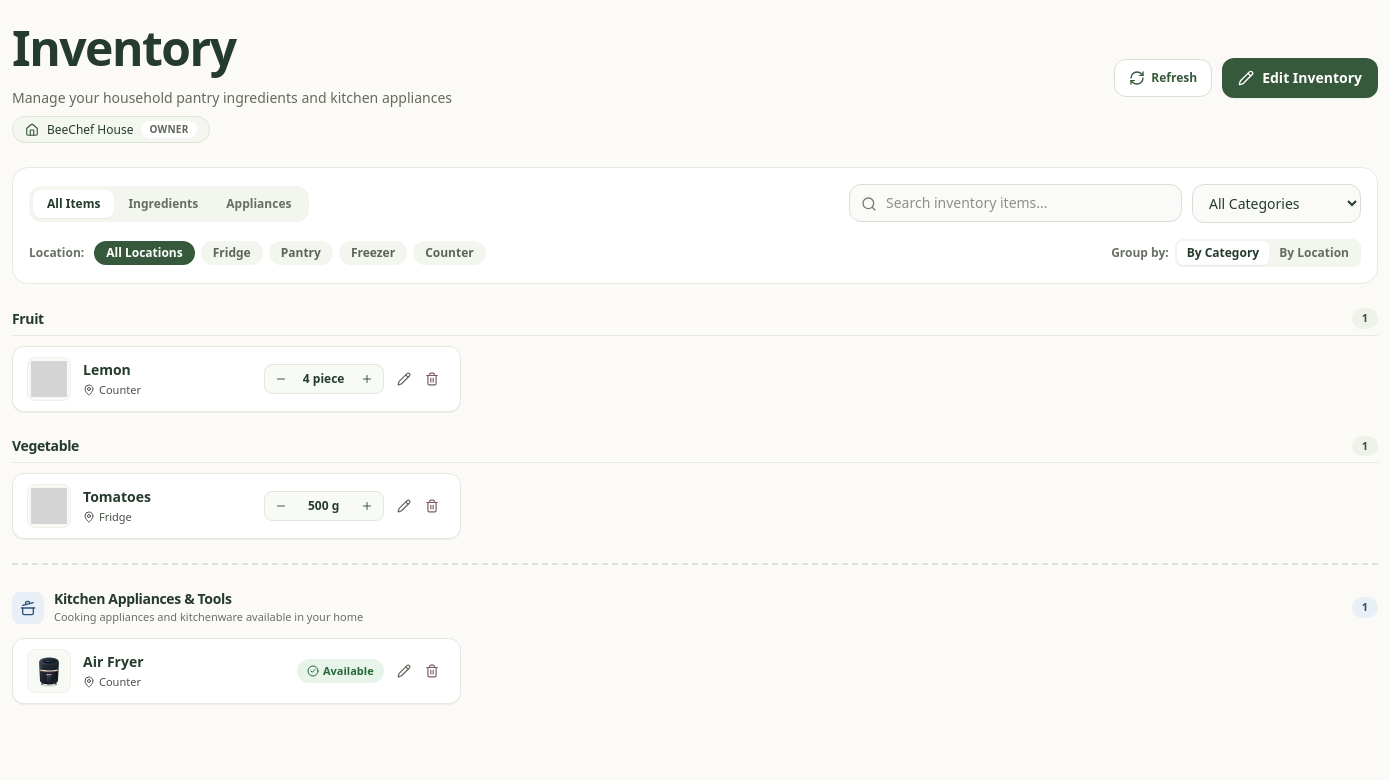
Test: InventoryPage UI and API integration › groups ingredients by category or location and keeps appliances in a bottom section
Expected: the heading "Tomatoes" is shown, [83,487,151,506]
Expected: the heading "Lemon" is shown, [83,360,131,379]
# Switch to By Location grouping
Click the button "By Location": (1314, 253) [1269,241,1359,265]
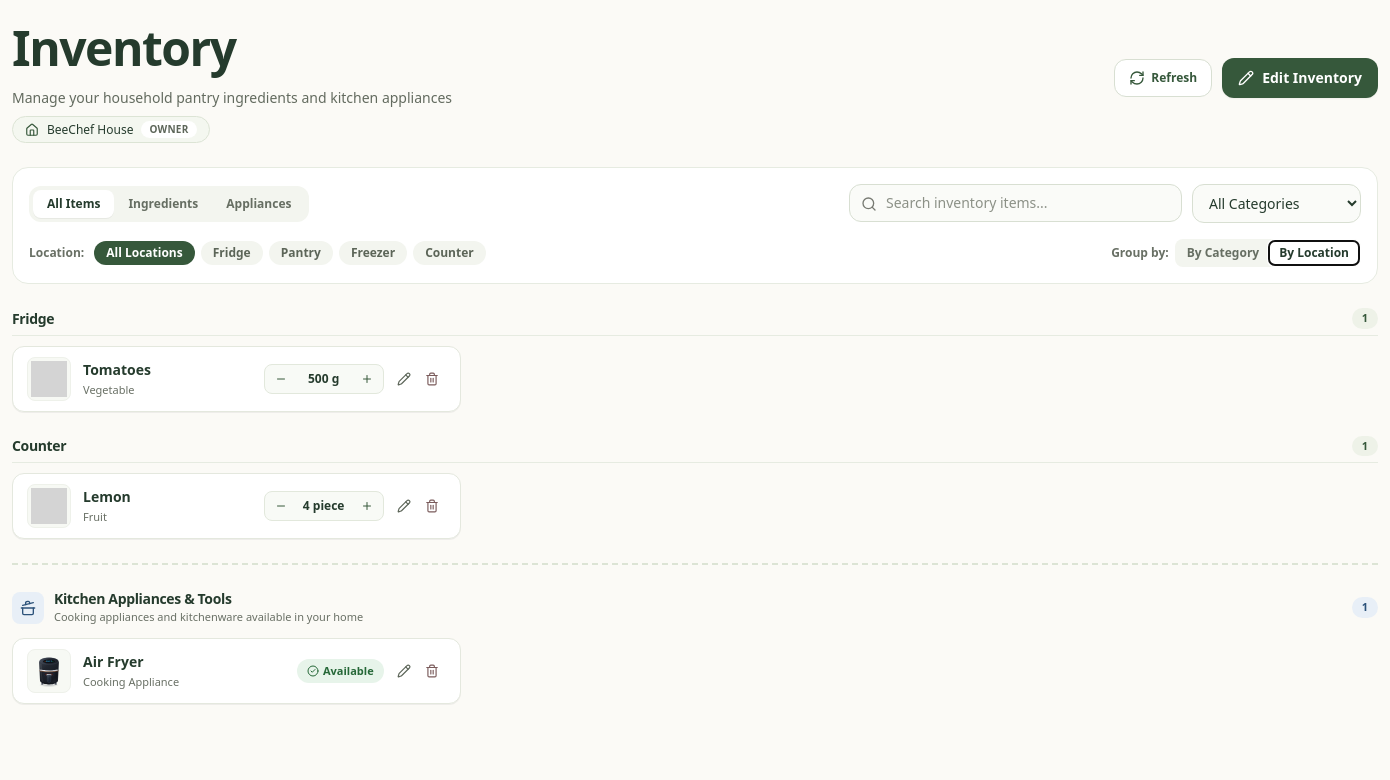
Expected: the heading "Fridge" is shown, [12,309,54,329]
Expected: the heading "Tomatoes" is shown, [83,360,151,379]
Expected: the heading "Counter" is shown, [12,436,66,456]
